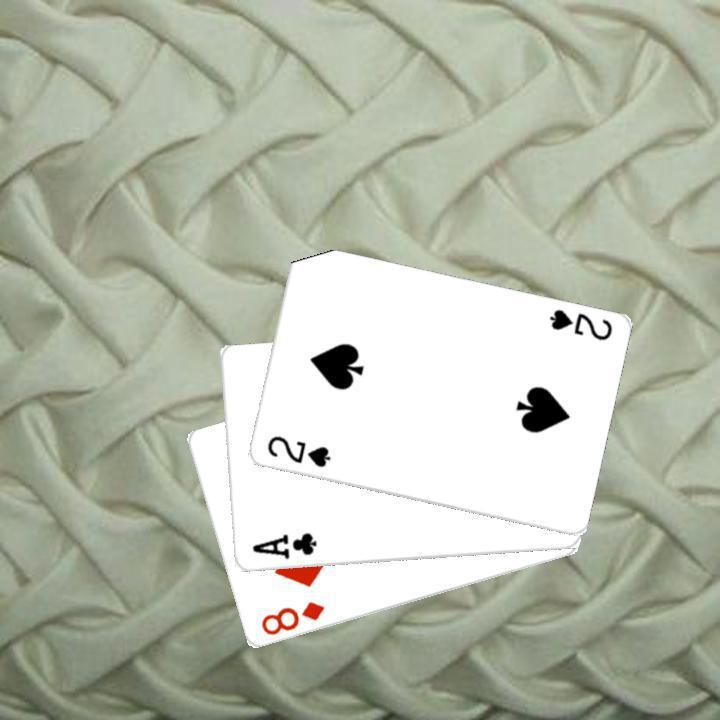2: (262, 431, 333, 470), (544, 305, 614, 343)
8: (256, 597, 327, 638)
A: (248, 529, 318, 562)
